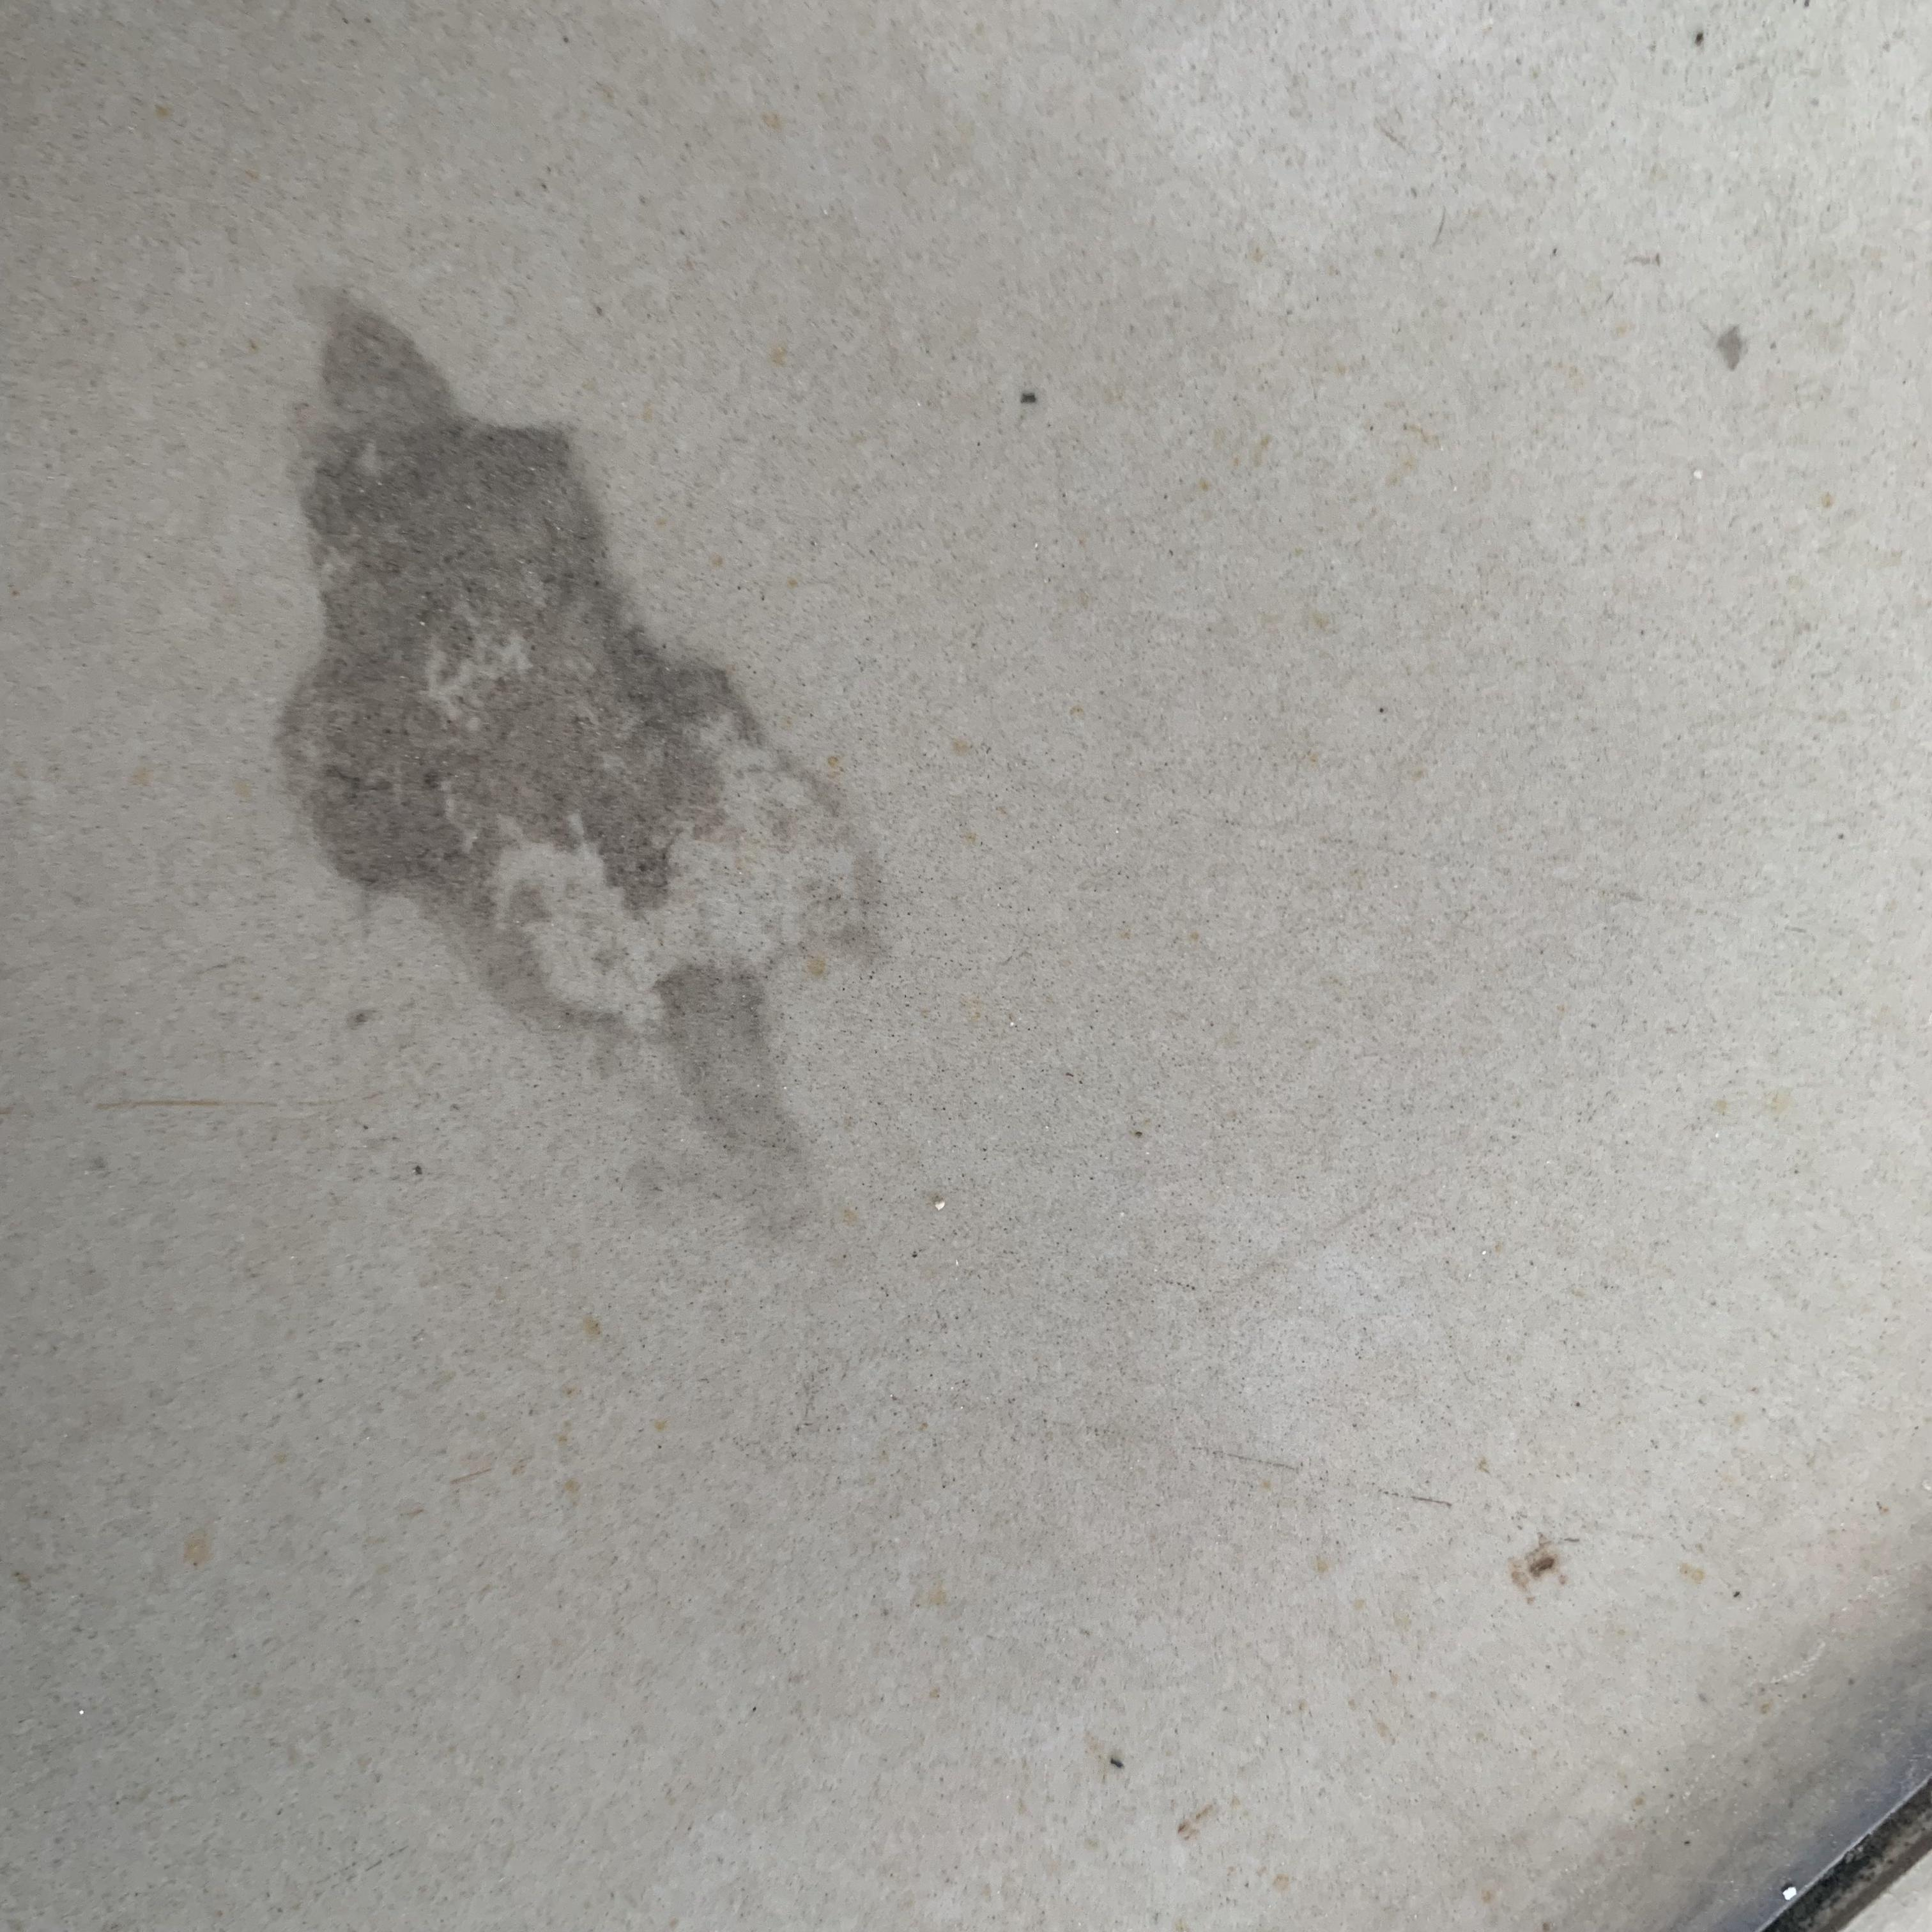grey spot: (272, 281, 885, 1251)
